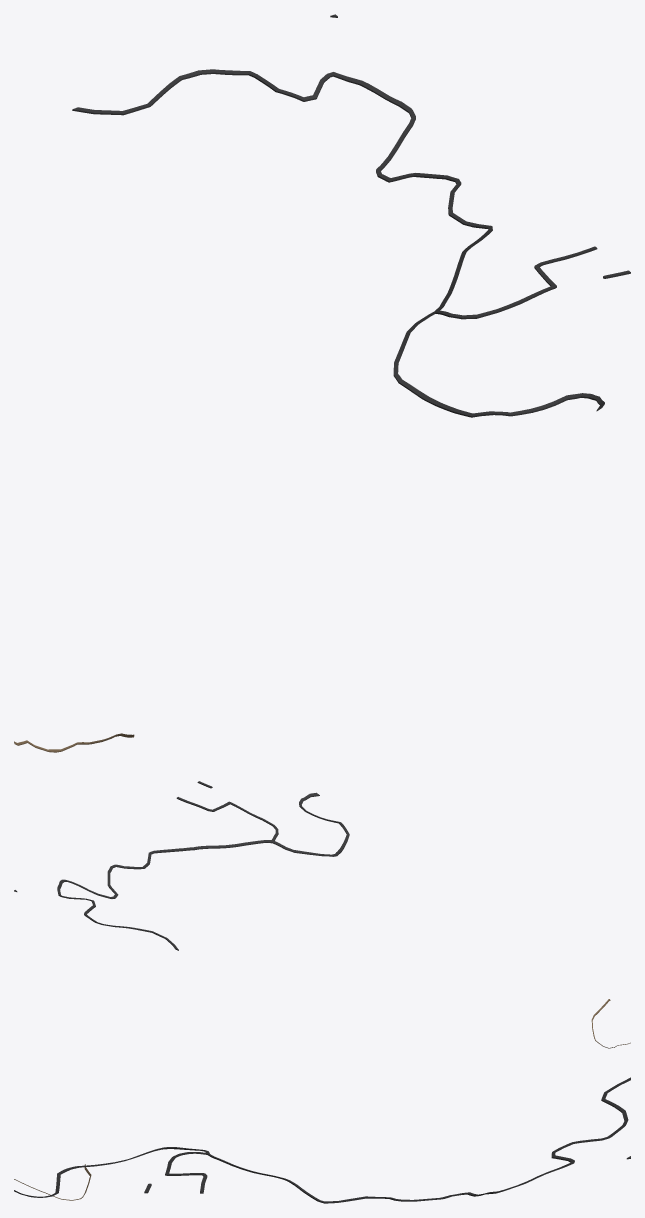
3 views of the same model, one above another, from view 1: azimuth 30°, elevation 25°; view 2: azimuth 150°, elevation 25°; view 3: azimuth 270°, elevation 25° (orthographic). The views are drawn at different scales.
Size of the model in its own units: 587 by 297 by 583.
